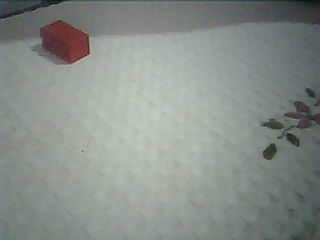lego: (40, 18, 90, 63)
